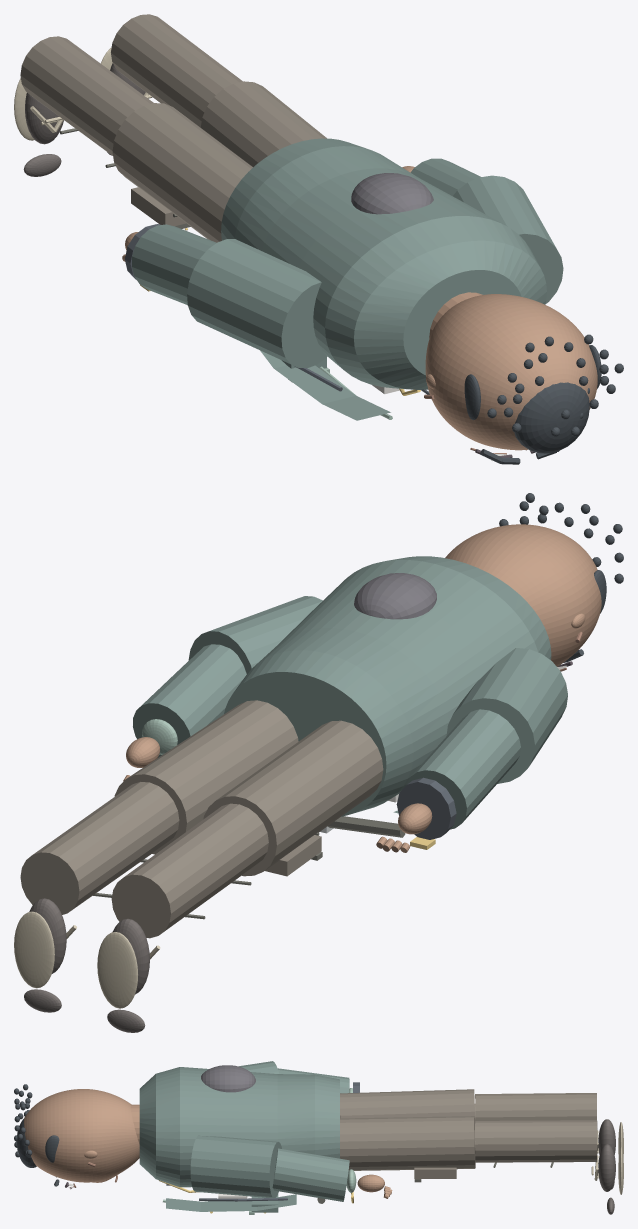
File: sibusiso_mkhize.glb
The picture shows the model from 3 angles, top to bottom: view 1: azimuth 30°, elevation 25°; view 2: azimuth 150°, elevation 25°; view 3: azimuth 270°, elevation 25°; orthographic projection. The views are drawn at different scales.
Visible parts, largest first — view 1: sibusiso_mkhize_top, sibusiso_mkhize_pants, sibusiso_mkhize_skin, sibusiso_mkhize_hair, sibusiso_mkhize_bag, sibusiso_mkhize_shoe, sibusiso_mkhize_sole, sibusiso_mkhize_topshadow; view 2: sibusiso_mkhize_top, sibusiso_mkhize_pants, sibusiso_mkhize_skin, sibusiso_mkhize_sole, sibusiso_mkhize_shoe, sibusiso_mkhize_bag, sibusiso_mkhize_topshadow, sibusiso_mkhize_hair, sibusiso_mkhize_pantshadow, sibusiso_mkhize_tophi; view 3: sibusiso_mkhize_top, sibusiso_mkhize_pants, sibusiso_mkhize_skin, sibusiso_mkhize_shoe, sibusiso_mkhize_hair, sibusiso_mkhize_bag, sibusiso_mkhize_sole, sibusiso_mkhize_topshadow, sibusiso_mkhize_tophi.
Part boxes in pixels (x1,y1,x2,y2): sibusiso_mkhize_top: [132, 138, 563, 420]; sibusiso_mkhize_pants: [20, 14, 326, 242]; sibusiso_mkhize_skin: [122, 166, 597, 450]; sibusiso_mkhize_hair: [464, 334, 623, 464]; sibusiso_mkhize_bag: [351, 173, 433, 214]; sibusiso_mkhize_shoe: [23, 63, 145, 176]; sibusiso_mkhize_sole: [14, 47, 152, 140]; sibusiso_mkhize_topshadow: [124, 224, 429, 394]; sibusiso_mkhize_top: [133, 556, 567, 829]; sibusiso_mkhize_pants: [20, 700, 383, 938]; sibusiso_mkhize_skin: [123, 524, 601, 852]; sibusiso_mkhize_sole: [14, 911, 160, 1008]; sibusiso_mkhize_shoe: [24, 898, 149, 1032]; sibusiso_mkhize_bag: [354, 573, 436, 619]; sibusiso_mkhize_topshadow: [396, 777, 456, 839]; sibusiso_mkhize_hair: [499, 493, 623, 662]; sibusiso_mkhize_pantshadow: [93, 816, 405, 919]; sibusiso_mkhize_tophi: [142, 719, 177, 754]; sibusiso_mkhize_top: [139, 1061, 349, 1212]; sibusiso_mkhize_pants: [340, 1089, 597, 1178]; sibusiso_mkhize_skin: [24, 1089, 392, 1198]; sibusiso_mkhize_shoe: [598, 1119, 615, 1214]; sibusiso_mkhize_hair: [14, 1084, 59, 1186]; sibusiso_mkhize_bag: [201, 1065, 255, 1092]; sibusiso_mkhize_sole: [591, 1122, 623, 1194]; sibusiso_mkhize_topshadow: [166, 1082, 359, 1201]; sibusiso_mkhize_tophi: [163, 1088, 356, 1214].
Bounding box in the file's own units: 0.7528 × 0.4436 × 1.86.
